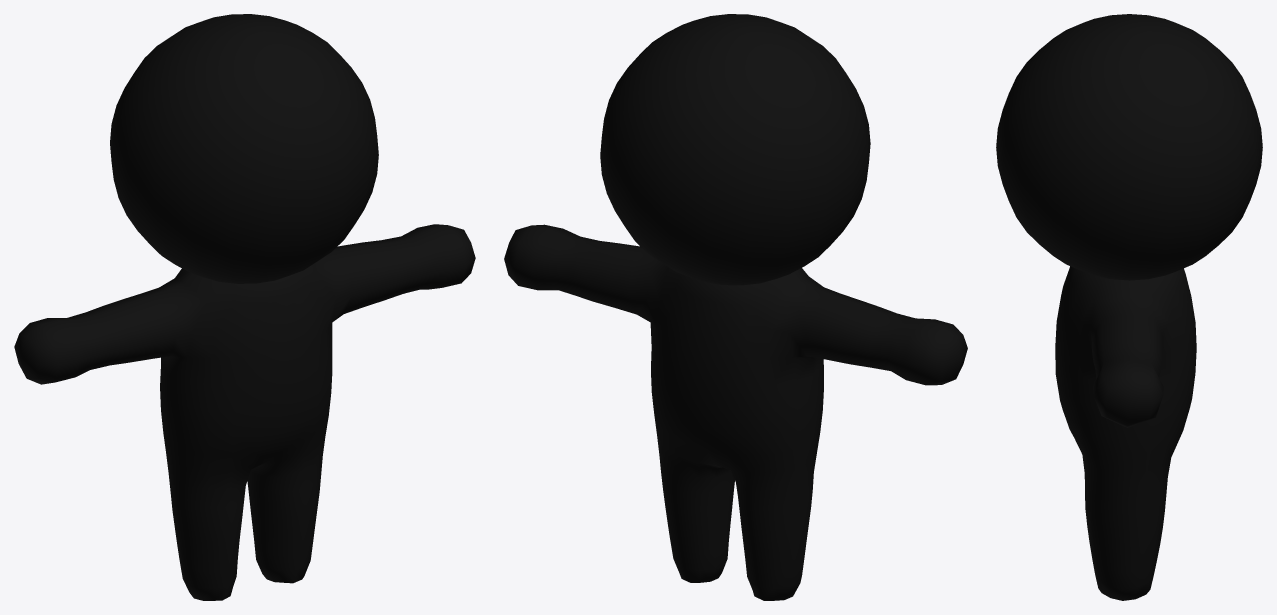
The model's file is ketrom.fbx.
The picture shows the model from 3 angles, left to right: view 1: azimuth 30°, elevation 25°; view 2: azimuth 150°, elevation 25°; view 3: azimuth 270°, elevation 25°; orthographic projection.
Visible parts, largest first — view 1: ketrom; view 2: ketrom; view 3: ketrom.
Boxes of the visible parts, x1=… form: ketrom: x1=14, y1=14, x2=475, y2=600; ketrom: x1=504, y1=14, x2=967, y2=600; ketrom: x1=996, y1=14, x2=1262, y2=600.
Size of the model in its own units: 225 by 268 by 117.
